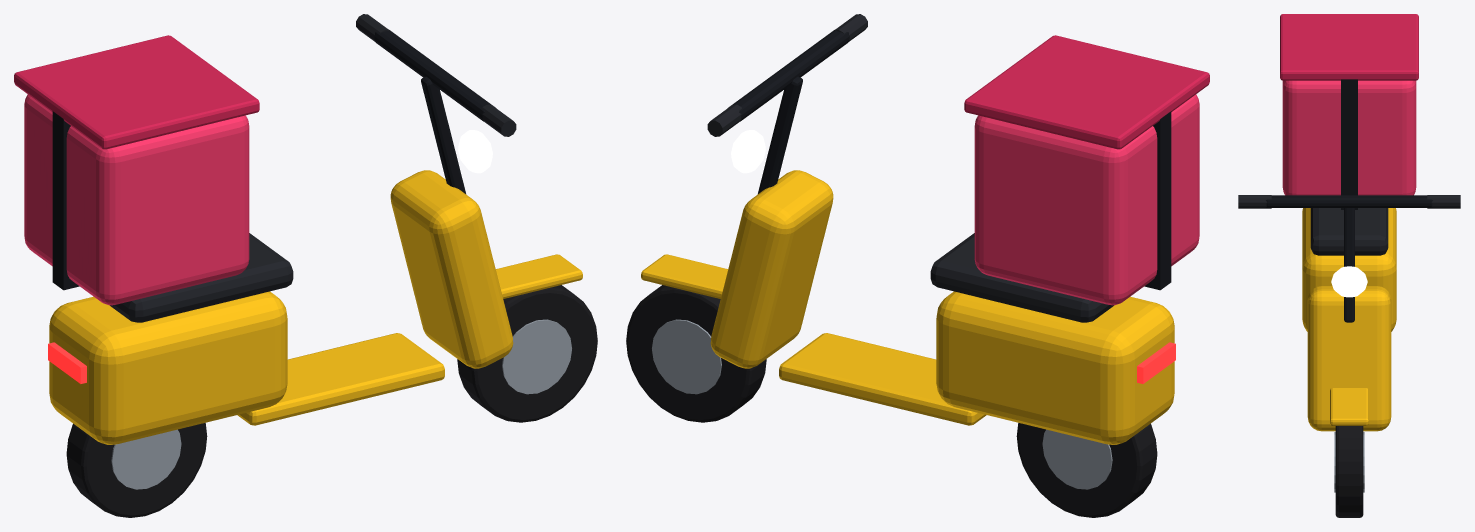
The model's file is delivery_scooter.glb.
3 views of the same model, side by side, from view 1: azimuth 30°, elevation 25°; view 2: azimuth 150°, elevation 25°; view 3: azimuth 270°, elevation 25° (orthographic). The views are drawn at different scales.
Visible parts, largest first — view 1: delivery_box, rear_body, box_lid, front_shield, floor, tire.001, tire, seat, rim.001, rim, box_strap, bar (+5 smaller); view 2: delivery_box, rear_body, box_lid, front_shield, floor, tire.001, tire, seat, rim.001, rim, box_strap, bar (+5 smaller); view 3: delivery_box, front_shield, box_lid, rear_body, seat, tire.001, bar, box_strap, fender_f, stem, headlight, grip (+1 smaller).
Boxes of the visible parts, left/top/right/bottom form: delivery_box: left=24, top=94, right=249, bottom=305; rear_body: left=49, top=291, right=287, bottom=444; box_lid: left=14, top=35, right=259, bottom=149; front_shield: left=390, top=170, right=513, bottom=368; floor: left=237, top=333, right=444, bottom=425; tire.001: left=457, top=285, right=597, bottom=422; tire: left=66, top=423, right=207, bottom=517; seat: left=110, top=233, right=293, bottom=322; rim.001: left=502, top=319, right=571, bottom=394; rim: left=111, top=429, right=181, bottom=489; box_strap: left=52, top=111, right=79, bottom=290; bar: left=374, top=30, right=495, bottom=121; delivery_box: left=974, top=94, right=1199, bottom=305; rear_body: left=936, top=291, right=1174, bottom=444; box_lid: left=964, top=35, right=1209, bottom=149; front_shield: left=710, top=170, right=833, bottom=368; floor: left=779, top=333, right=986, bottom=425; tire.001: left=626, top=285, right=766, bottom=422; tire: left=1016, top=423, right=1157, bottom=517; seat: left=930, top=233, right=1113, bottom=322; rim.001: left=652, top=319, right=721, bottom=394; rim: left=1042, top=429, right=1112, bottom=489; box_strap: left=1144, top=111, right=1171, bottom=290; bar: left=728, top=30, right=849, bottom=121; delivery_box: left=1282, top=80, right=1416, bottom=195; front_shield: left=1307, top=286, right=1391, bottom=431; box_lid: left=1280, top=14, right=1418, bottom=80; rear_body: left=1302, top=208, right=1396, bottom=331; seat: left=1310, top=208, right=1388, bottom=255; tire.001: left=1335, top=426, right=1363, bottom=517; bar: left=1266, top=195, right=1432, bottom=207; box_strap: left=1341, top=79, right=1357, bottom=209; fender_f: left=1330, top=388, right=1368, bottom=425; stem: left=1344, top=208, right=1354, bottom=322; headlight: left=1331, top=266, right=1367, bottom=297; grip: left=1238, top=195, right=1271, bottom=208.
Size of the model in its own units: 1.69 by 1.29 by 0.8.
